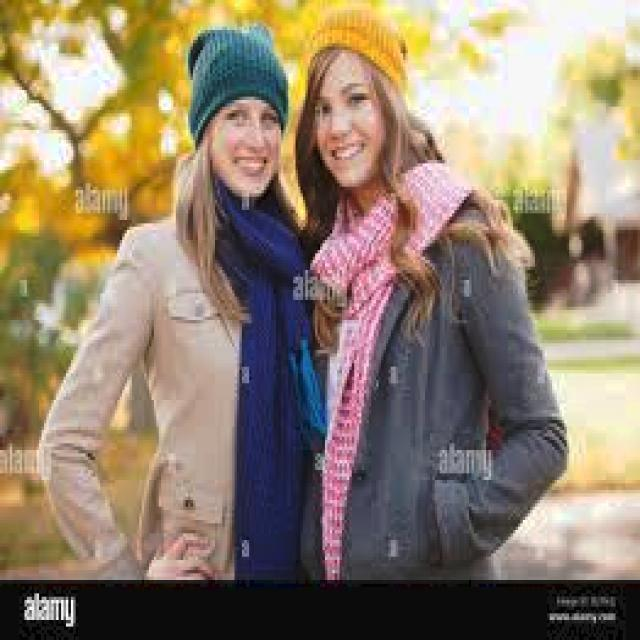TOPI: (183, 7, 288, 150), (293, 0, 412, 93)
